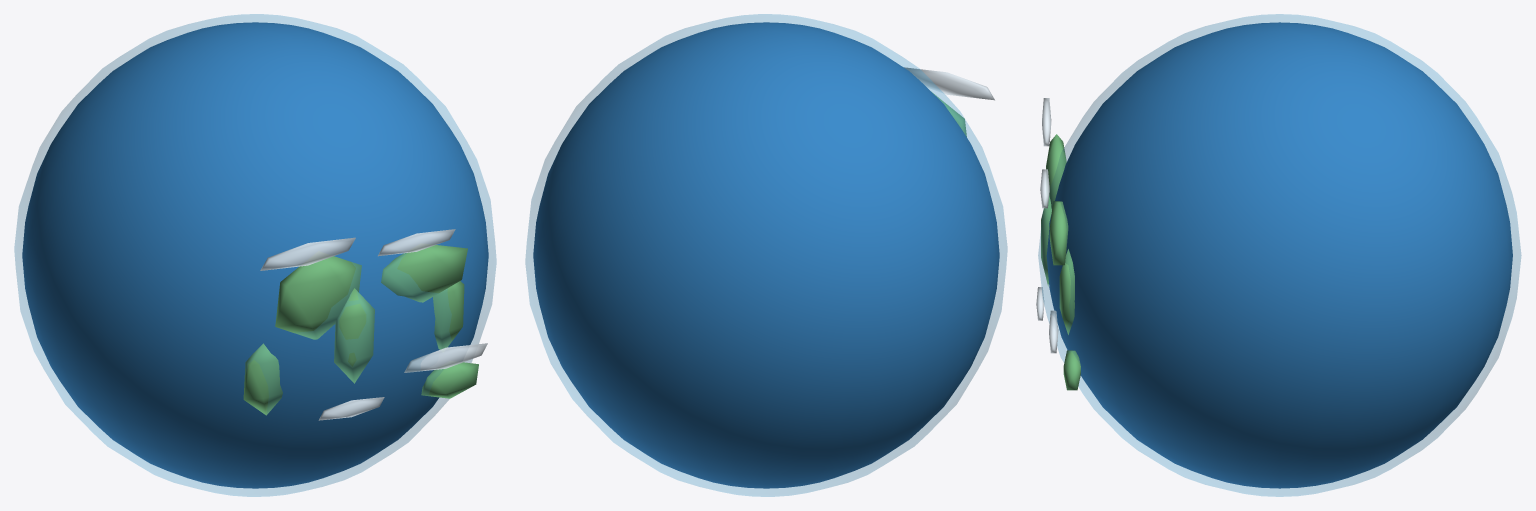
The model's file is Earth.glb.
3 renders of one model, left to right at view 1: azimuth 30°, elevation 25°; view 2: azimuth 150°, elevation 25°; view 3: azimuth 270°, elevation 25°, orthographic.
Parts seen in each view (by area): view 1: Earth_Atmosphere, Earth_Surface, Earth_Land_01, Earth_Land_03, Earth_Land_02, Earth_Land_06, Earth_Land_04, Earth_CloudBand_01, Earth_Land_05, Earth_CloudBand_03, Earth_CloudBand_02, Earth_CloudBand_04; view 2: Earth_Atmosphere, Earth_Surface, Earth_CloudBand_01; view 3: Earth_Atmosphere, Earth_Surface, Earth_Land_03, Earth_Land_04, Earth_Land_01, Earth_Land_05, Earth_Land_02.
Boxes of the visible parts, x1,y1,x2,y2 form: Earth_Atmosphere: (14, 14, 496, 496); Earth_Surface: (22, 22, 488, 488); Earth_Land_01: (275, 256, 361, 339); Earth_Land_03: (381, 245, 467, 302); Earth_Land_02: (334, 288, 374, 383); Earth_Land_06: (243, 343, 282, 415); Earth_Land_04: (433, 281, 464, 349); Earth_CloudBand_01: (260, 237, 355, 270); Earth_Land_05: (421, 362, 478, 398); Earth_CloudBand_03: (404, 343, 487, 372); Earth_CloudBand_02: (378, 229, 455, 256); Earth_CloudBand_04: (318, 397, 384, 420); Earth_Atmosphere: (525, 14, 1007, 496); Earth_Surface: (533, 22, 999, 488); Earth_CloudBand_01: (904, 67, 994, 100); Earth_Atmosphere: (1038, 14, 1521, 496); Earth_Surface: (1046, 22, 1512, 488); Earth_Land_03: (1049, 201, 1068, 265); Earth_Land_04: (1059, 249, 1074, 334); Earth_Land_01: (1046, 134, 1066, 209); Earth_Land_05: (1063, 350, 1080, 390); Earth_Land_02: (1041, 196, 1051, 286).
Size of the model in its own units: 6.22 by 6.22 by 6.24.
